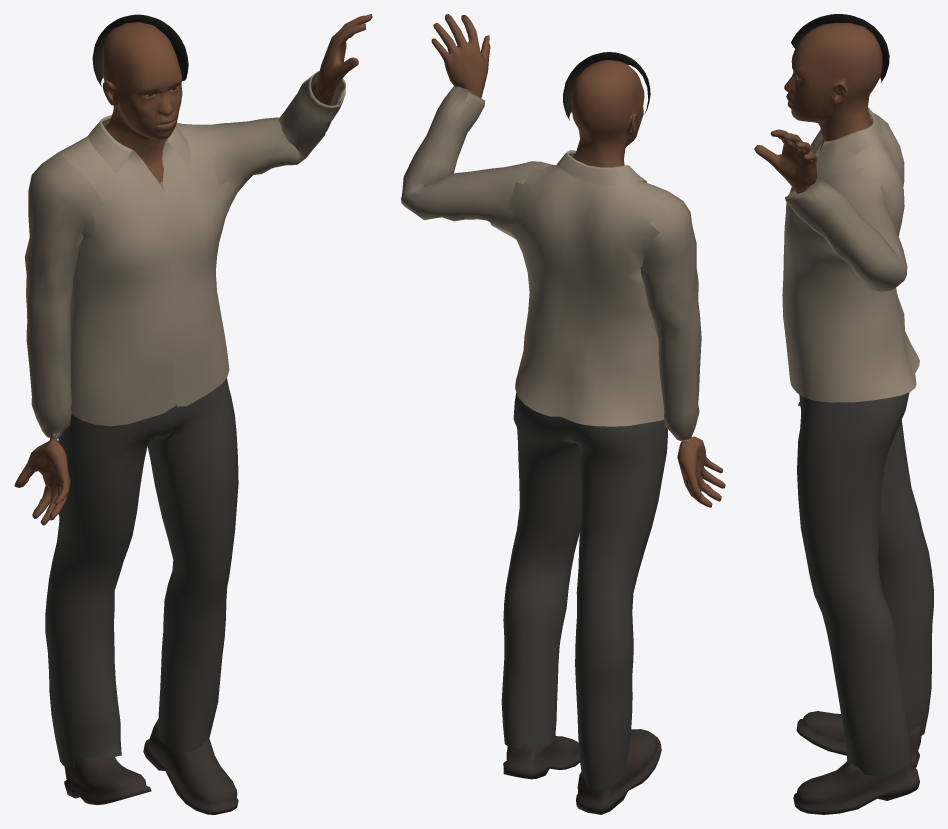
File: participant-11-middle.glb
3 renders of one model, left to right at view 1: azimuth 30°, elevation 25°; view 2: azimuth 150°, elevation 25°; view 3: azimuth 270°, elevation 25°, orthographic. The views are drawn at different scales.
Parts seen in each view (by area): view 1: Participant anatomy and ordinary clothes; view 2: Participant anatomy and ordinary clothes; view 3: Participant anatomy and ordinary clothes.
Boxes of the visible parts, bbox=[...] form: Participant anatomy and ordinary clothes: bbox=[14, 14, 372, 814]; Participant anatomy and ordinary clothes: bbox=[401, 14, 725, 814]; Participant anatomy and ordinary clothes: bbox=[754, 14, 933, 814].
Bounding box in the file's own units: 0.7532 × 1.76 × 0.3779.
